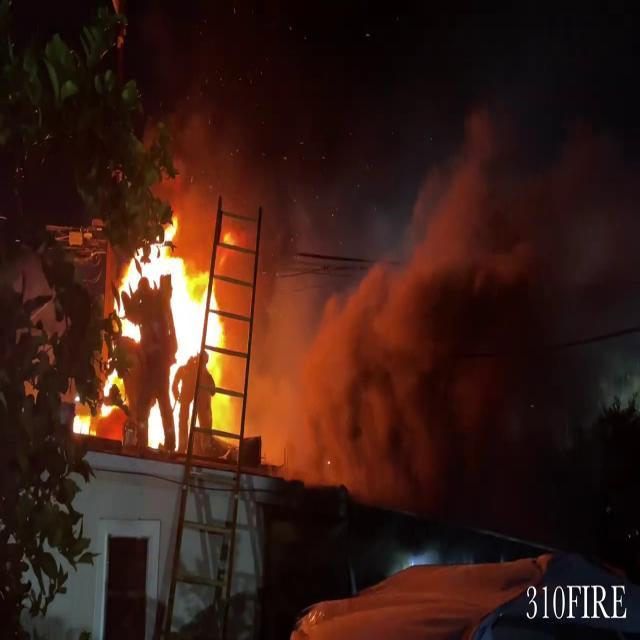Fire: (65, 210, 244, 452)
Smoke: (228, 24, 640, 493)
